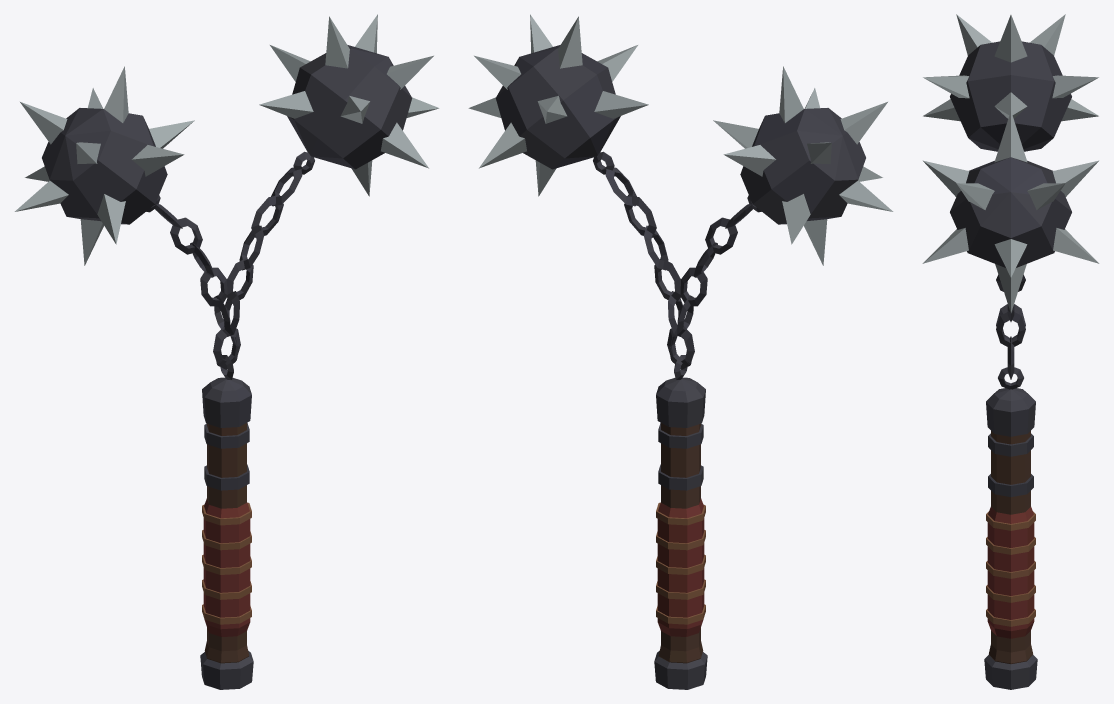
File: weapon_flail_twin.glb
The picture shows the model from 3 angles, left to right: view 1: azimuth 30°, elevation 25°; view 2: azimuth 150°, elevation 25°; view 3: azimuth 270°, elevation 25°; orthographic projection. The views are drawn at different scales.
Visible parts, largest first — view 1: weapon_flail_twin_ball2, weapon_flail_twin_ball, weapon_flail_twin, weapon_flail_twin_chain; view 2: weapon_flail_twin_ball2, weapon_flail_twin_ball, weapon_flail_twin, weapon_flail_twin_chain; view 3: weapon_flail_twin_ball, weapon_flail_twin, weapon_flail_twin_ball2, weapon_flail_twin_chain.
Part boxes in pixels (bbox=[...]): weapon_flail_twin_ball2: bbox=[14, 66, 194, 265]; weapon_flail_twin_ball: bbox=[259, 14, 439, 196]; weapon_flail_twin: bbox=[200, 355, 253, 689]; weapon_flail_twin_chain: bbox=[155, 167, 302, 366]; weapon_flail_twin_ball2: bbox=[713, 66, 893, 265]; weapon_flail_twin_ball: bbox=[468, 14, 648, 196]; weapon_flail_twin: bbox=[654, 355, 707, 689]; weapon_flail_twin_chain: bbox=[605, 167, 752, 366]; weapon_flail_twin_ball: bbox=[922, 111, 1099, 312]; weapon_flail_twin: bbox=[984, 367, 1037, 689]; weapon_flail_twin_ball2: bbox=[923, 14, 1098, 151]; weapon_flail_twin_chain: bbox=[996, 274, 1025, 379].
Bounding box in the file's own units: 0.8528 × 1.23 × 0.3182.
